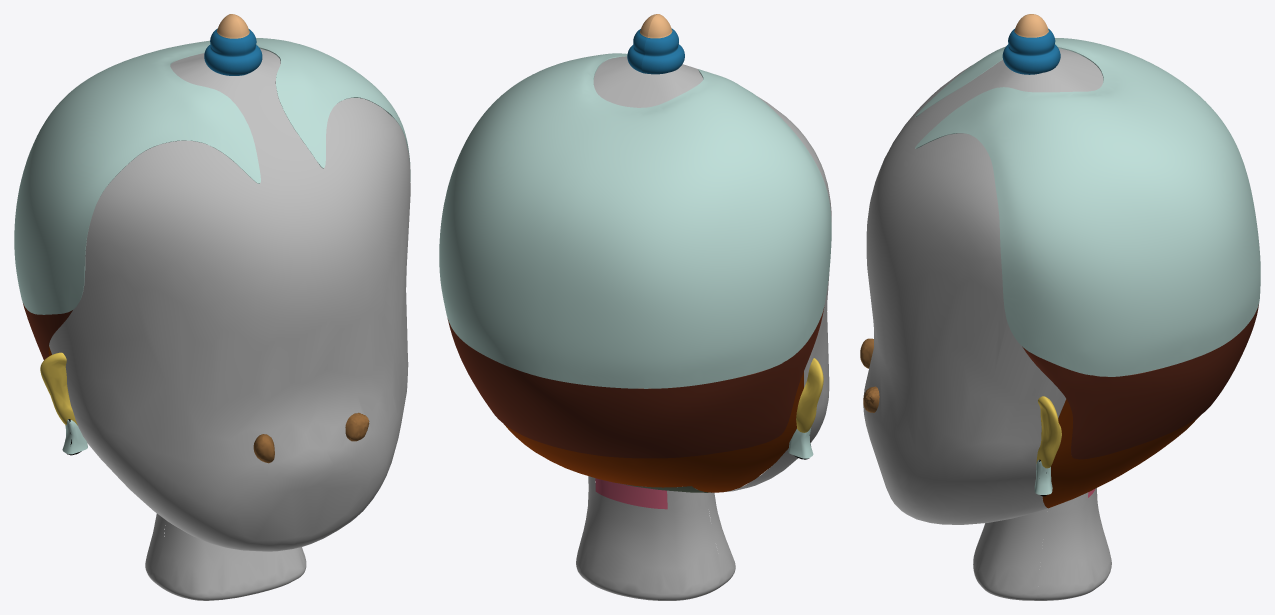
Rendered from tiwrk-01.glb.
3 views of the same model, side by side, from view 1: azimuth 30°, elevation 25°; view 2: azimuth 150°, elevation 25°; view 3: azimuth 270°, elevation 25° (orthographic).
Visible parts, largest first — view 1: Vert.001_Material.001, Retopo_Vert.002, Cube.001_Material.001, Cube.003_Material.015, Retopo_Cube.001, Cube, Retopo_Vert.003, Cube.001, Cube.003_Material.016, Cube.005; view 2: Retopo_Vert.002, Retopo_Vert.003, Cube.001, Vert.001_Material, Vert.001_Material.001, Cube.003_Material.015, Cube.001_Material.001, Cube.001_Material.002, Retopo_Cube.001, Cube.003_Material.016, Cube.005; view 3: Retopo_Vert.002, Vert.001_Material.001, Retopo_Vert.003, Cube.001, Cube.001_Material.001, Vert.001_Material, Cube.003_Material.015, Retopo_Cube.001, Cube, Cube.003_Material.016.
Part boxes in pixels (left/top/right/bottom): Vert.001_Material.001: left=49, top=48, right=410, bottom=551; Retopo_Vert.002: left=14, top=38, right=410, bottom=314; Cube.001_Material.001: left=147, top=520, right=306, bottom=600; Cube.003_Material.015: left=204, top=28, right=262, bottom=75; Retopo_Cube.001: left=40, top=352, right=77, bottom=425; Cube: left=253, top=412, right=369, bottom=463; Retopo_Vert.003: left=23, top=303, right=72, bottom=359; Cube.001: left=145, top=513, right=165, bottom=582; Cube.003_Material.016: left=217, top=14, right=249, bottom=38; Cube.005: left=62, top=419, right=87, bottom=454; Retopo_Vert.002: left=439, top=53, right=831, bottom=388; Retopo_Vert.003: left=447, top=307, right=824, bottom=458; Cube.001: left=576, top=476, right=725, bottom=596; Vert.001_Material: left=504, top=372, right=803, bottom=492; Vert.001_Material.001: left=593, top=56, right=831, bottom=491; Cube.003_Material.015: left=627, top=28, right=684, bottom=74; Cube.001_Material.001: left=577, top=487, right=735, bottom=600; Cube.001_Material.002: left=595, top=478, right=667, bottom=509; Retopo_Cube.001: left=796, top=358, right=823, bottom=432; Cube.003_Material.016: left=640, top=14, right=672, bottom=38; Cube.005: left=788, top=427, right=813, bottom=458; Retopo_Vert.002: left=915, top=38, right=1260, bottom=376; Vert.001_Material.001: left=863, top=48, right=1103, bottom=524; Retopo_Vert.003: left=1022, top=304, right=1258, bottom=459; Cube.001: left=1037, top=402, right=1111, bottom=597; Cube.001_Material.001: left=973, top=405, right=1110, bottom=600; Vert.001_Material: left=1042, top=399, right=1200, bottom=508; Cube.003_Material.015: left=1002, top=28, right=1060, bottom=74; Retopo_Cube.001: left=1036, top=396, right=1061, bottom=468; Cube: left=860, top=338, right=879, bottom=412; Cube.003_Material.016: left=1014, top=14, right=1048, bottom=37.
Size of the model in its own units: 0.6721 by 0.9999 by 0.6473.
